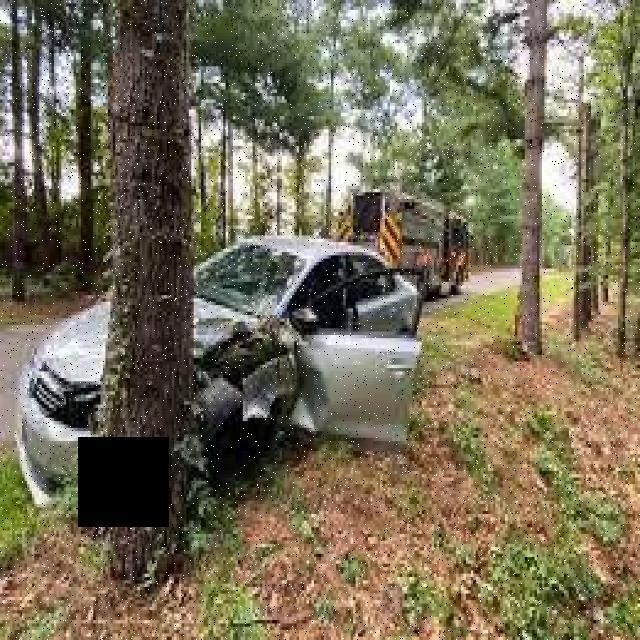single accident: (0, 153, 430, 583)
